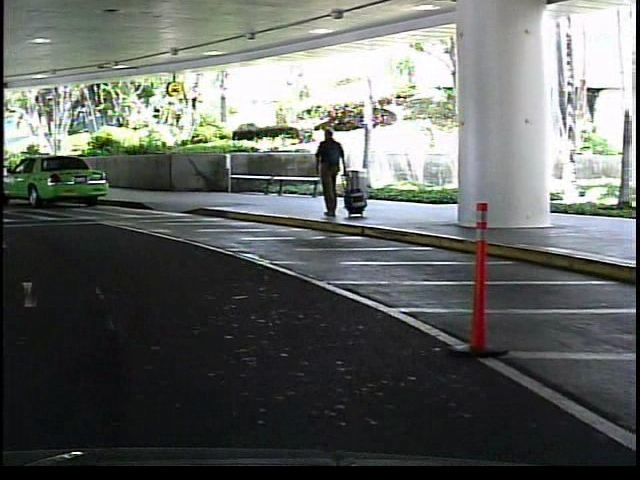person: (306, 123, 348, 227)
